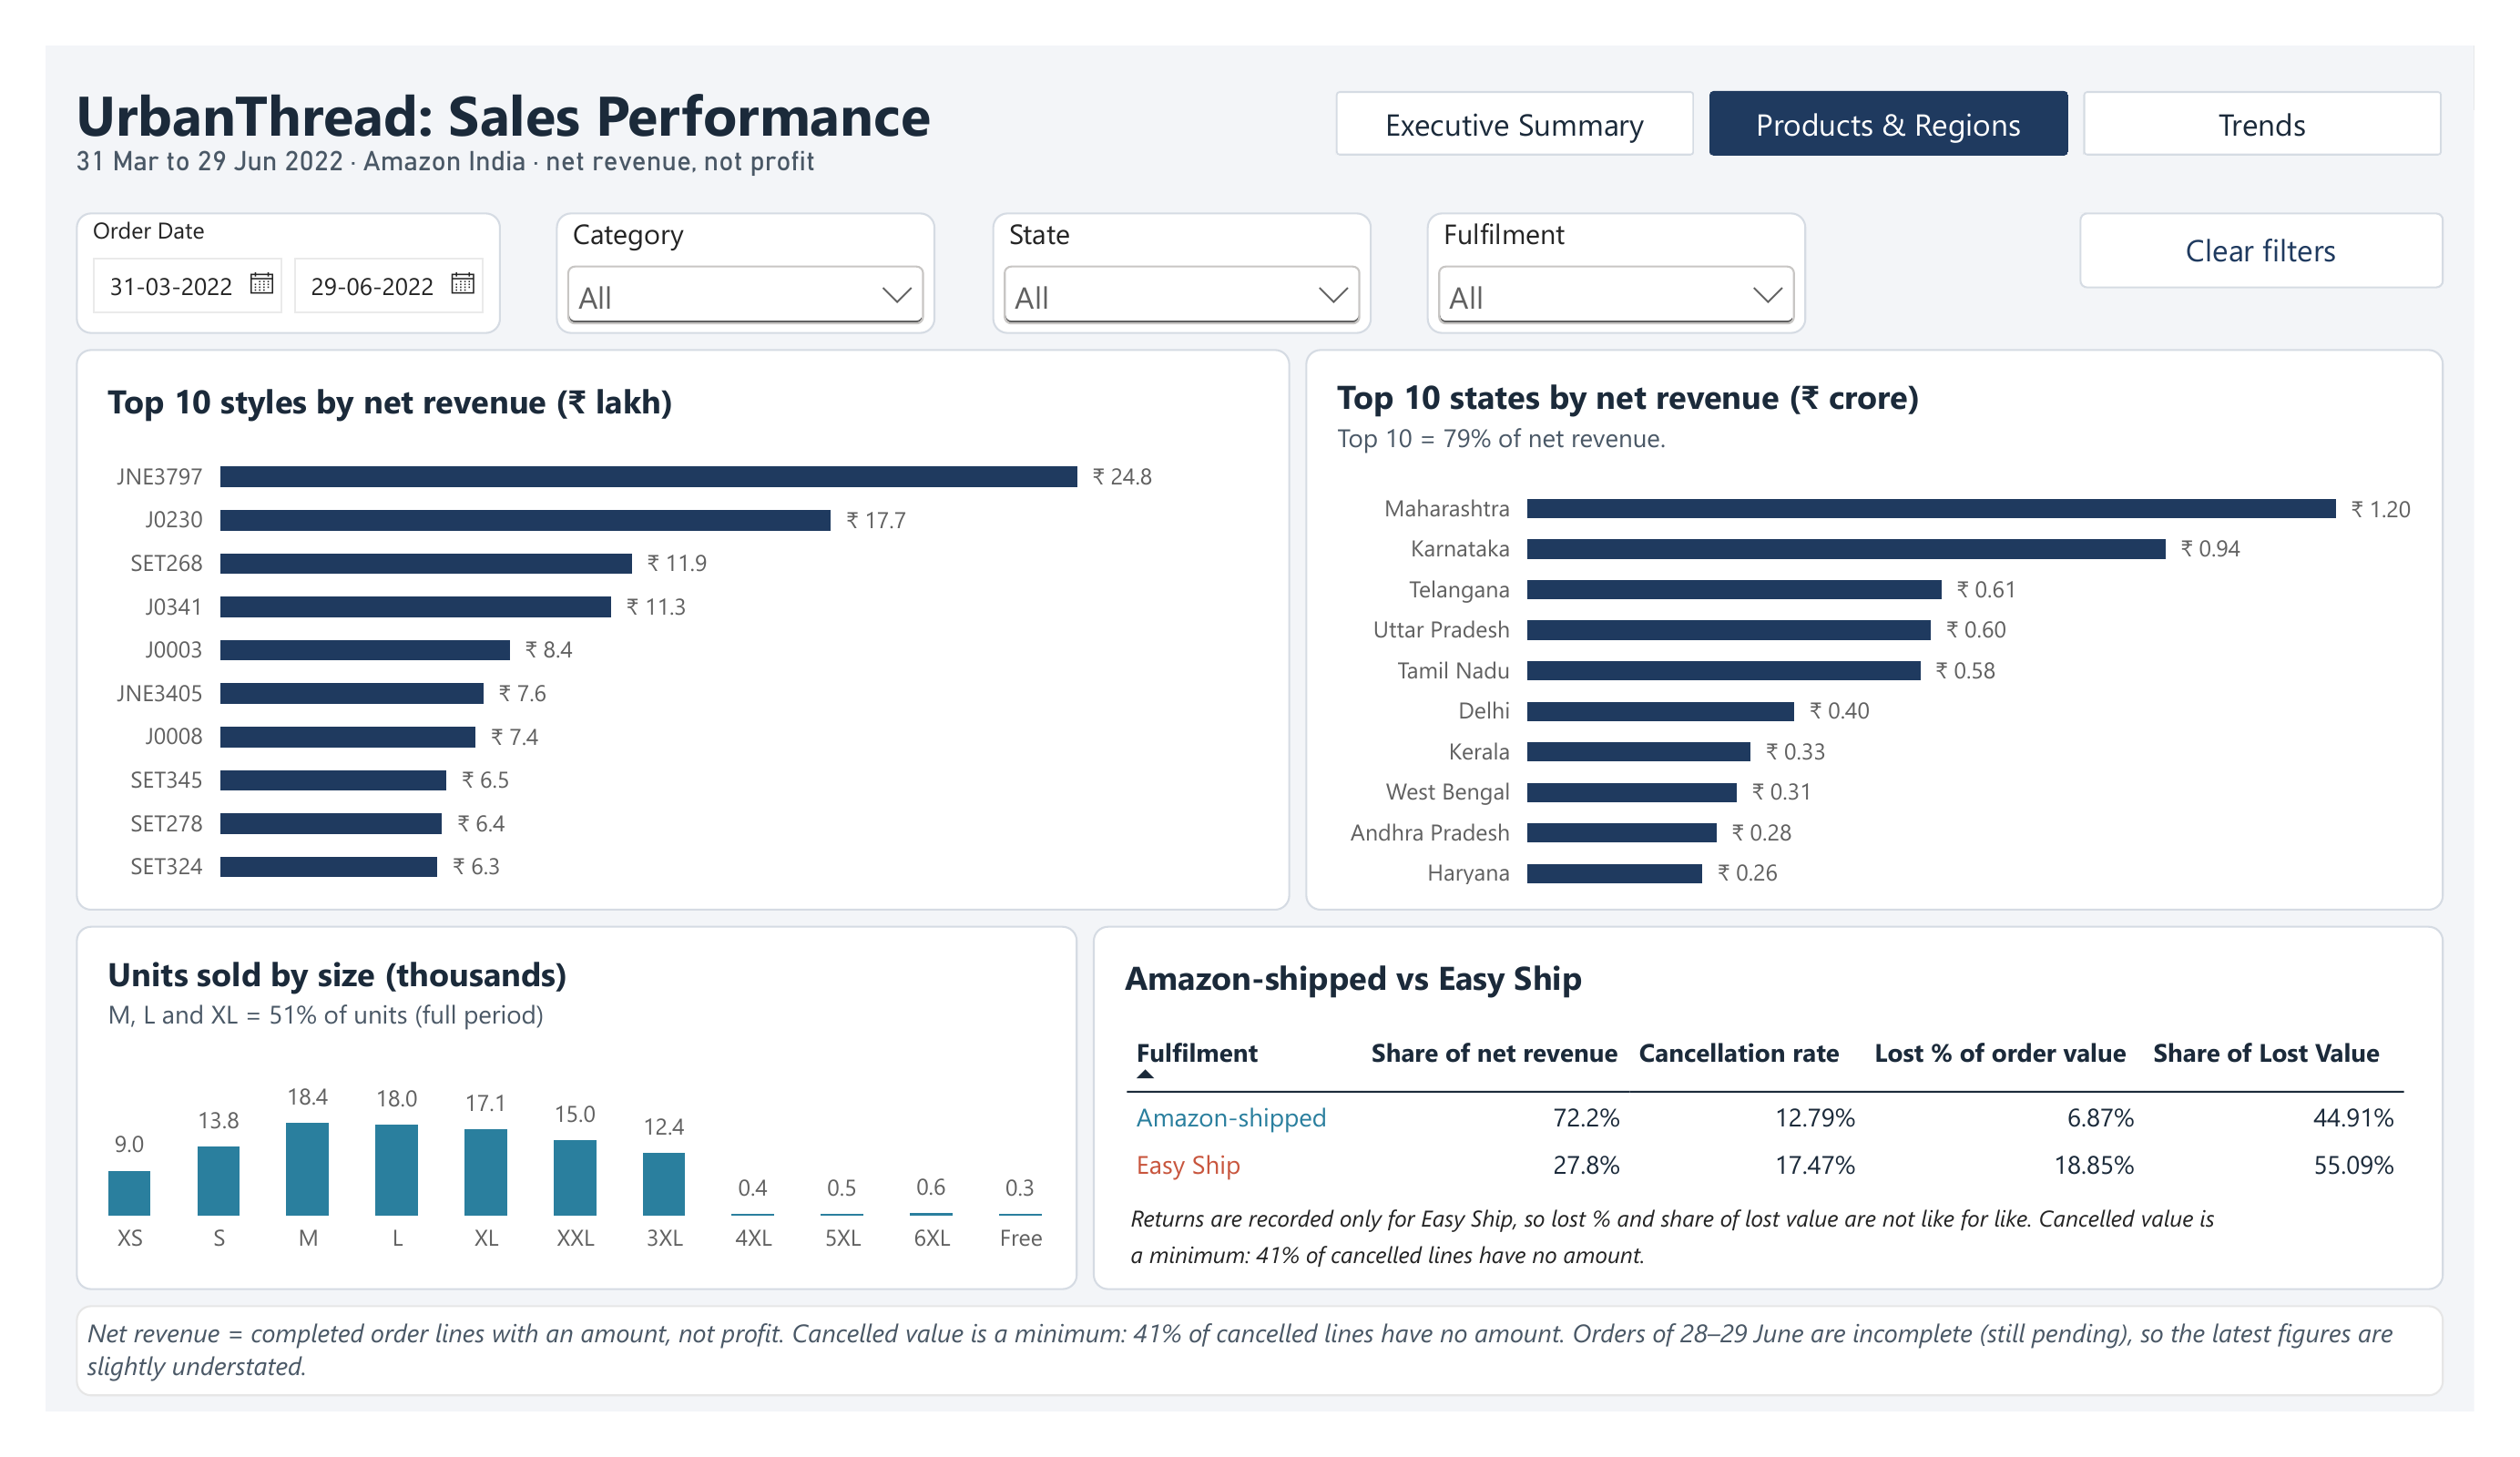

What the dashboard file says about the page in this screenshot:
{"tool":"powerbi","page":{"name":"Products & Regions","canvas":[1280,720],"ordinal":1},"visuals":[{"type":"textbox","title":"UrbanThread: Sales Performance","box":[16,16,536,40],"z":0},{"type":"textbox","title":"31 Mar to 29 Jun 2022 · Amazon India · net revenue, not profit","box":[16,53,408,24],"z":1000},{"type":"shape","title":"Net revenue = completed order lines with an amount, not profit. Cancelled value is a minimum: 41% of cancelled lines have no amount. Orders of 28–29 June are incomplete (still pending), so the latest ","box":[16,664,1248,48],"z":2000},{"type":"clusteredBarChart","title":"Top 10 styles by net revenue (₹ lakh)","fields":{"Category":["DimProduct.Style"],"Y":["_Measures.Net Revenue Lakh"]},"box":[16,160,640,296],"z":3000},{"type":"clusteredBarChart","title":"Top 10 states by net revenue (₹ crore)","fields":{"Category":["FactSales.ship_state"],"Y":["_Measures.Net Revenue Crore"]},"box":[664,160,600,296],"z":4000},{"type":"clusteredColumnChart","title":"Units sold by size (thousands)","fields":{"Category":["DimSize.Size"],"Y":["_Measures.Units Thousands"]},"box":[16,464,528,192],"z":5000},{"type":"tableEx","title":"Amazon-shipped vs Easy Ship","fields":{"Values":["DimFulfilment.Fulfilment","_Measures.Net Revenue Share of Fulfilment","_Measures.Cancellation rate","_Measures.Lost % of Order Value","_Measures.Share of Lost Value"]},"box":[552,464,712,192],"z":6000},{"type":"textbox","title":"Footer - amazon shipped vs easy ship","box":[572,608,576,48],"z":7000},{"type":"pageNavigator","box":[672,16,600,50],"z":8000},{"type":"actionButton","title":"Button - clear filters","box":[1072,88,192,40],"z":9000},{"type":"slicer","title":"Slicer - Category","fields":{"Values":["DimProduct.Category"]},"box":[269.3,88,200,64],"z":10000},{"type":"slicer","title":"Slicer - Fulfilment","fields":{"Values":["DimFulfilment.Fulfilment"]},"box":[728,88,200,64],"z":11000},{"type":"slicer","title":"Slicer - Date","fields":{"Values":["DimDate.Date"]},"box":[16,88,224,64],"z":12000},{"type":"slicer","title":"Slicer - Ship State","fields":{"Values":["FactSales.ship_state"]},"box":[498.7,88,200,64],"z":13000}]}

Visuals, with their boxes on the page's 1280x720 design canvas (x1, y1, x2, y2). These are canvas units, not pixel positions in the 2520x1457 screenshot, which may show the page scaled, cropped or inside an application window:
"UrbanThread: Sales Performance" textbox: pyautogui.locateOnScreen(16, 16, 552, 56)
"31 Mar to 29 Jun 2022 · Amazon India · net revenue, not profit" textbox: pyautogui.locateOnScreen(16, 53, 424, 77)
"Net revenue = completed order lines with an amount, not profit. Cancelled value is a minimum: 41% of cancelled lines have no amount. Orders of 28–29 June are incomplete (still pending), so the latest " shape: pyautogui.locateOnScreen(16, 664, 1264, 712)
"Top 10 styles by net revenue (₹ lakh)" clusteredBarChart: pyautogui.locateOnScreen(16, 160, 656, 456)
"Top 10 states by net revenue (₹ crore)" clusteredBarChart: pyautogui.locateOnScreen(664, 160, 1264, 456)
"Units sold by size (thousands)" clusteredColumnChart: pyautogui.locateOnScreen(16, 464, 544, 656)
"Amazon-shipped vs Easy Ship" tableEx: pyautogui.locateOnScreen(552, 464, 1264, 656)
"Footer - amazon shipped vs easy ship" textbox: pyautogui.locateOnScreen(572, 608, 1148, 656)
pageNavigator: pyautogui.locateOnScreen(672, 16, 1272, 66)
"Button - clear filters" actionButton: pyautogui.locateOnScreen(1072, 88, 1264, 128)
"Slicer - Category" slicer: pyautogui.locateOnScreen(269, 88, 469, 152)
"Slicer - Fulfilment" slicer: pyautogui.locateOnScreen(728, 88, 928, 152)
"Slicer - Date" slicer: pyautogui.locateOnScreen(16, 88, 240, 152)
"Slicer - Ship State" slicer: pyautogui.locateOnScreen(499, 88, 699, 152)
